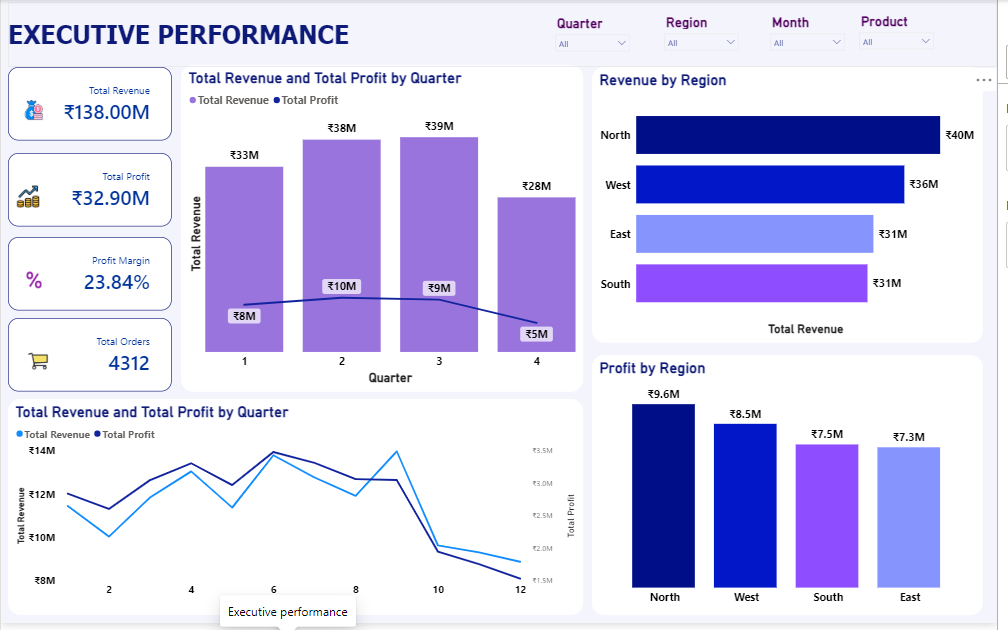

Layout of this report page (visuals, bound fields, positions):
{"tool":"powerbi","page":{"name":"Executive performance","canvas":[1600,1000],"ordinal":1},"visuals":[{"type":"shape","box":[11.2,3.2,1588.8,104.4],"z":0,"group":"g7"},{"type":"group","id":"g1","title":"Group 1","box":[11.2,107.6,263.5,118.9],"z":0},{"type":"cardVisual","fields":{"Data":["ecommerce_cleaned.Total Revenue"]},"box":[11.2,107.6,263.5,118.2],"z":0,"group":"g1"},{"type":"cardVisual","fields":{"Data":["ecommerce_cleaned.Total Profit"]},"box":[11.2,245.2,263.5,118.2],"z":0,"group":"g3"},{"type":"cardVisual","fields":{"Data":["ecommerce_cleaned.Profit Margin"]},"box":[11.2,380.7,263.5,118.2],"z":0,"group":"g2"},{"type":"cardVisual","fields":{"Data":["ecommerce_cleaned.Total Orders"]},"box":[11.2,510.8,263.5,118.2],"z":0,"group":"g6"},{"type":"image","box":[15.8,159.5,73.3,36.2],"z":501,"group":"g1"},{"type":"image","box":[15.8,432.6,73.3,36.2],"z":501,"group":"g2"},{"type":"slicer","fields":{"Values":["ecommerce_cleaned.quarter"]},"box":[879.9,18.9,139.8,73.9],"z":1000,"group":"g7"},{"type":"group","id":"g2","title":"Group 1","box":[11.2,380.7,263.5,118.9],"z":1000},{"type":"slicer","fields":{"Values":["ecommerce_cleaned.region"]},"box":[1055,17.3,139.8,73.9],"z":2000,"group":"g7"},{"type":"group","id":"g3","title":"Group 1","box":[11.2,245.2,263.5,118.9],"z":2000,"group":"g5"},{"type":"group","id":"g4","title":"Group 2","box":[11.2,510.8,263.5,118.9],"z":2000},{"type":"slicer","fields":{"Values":["ecommerce_cleaned.month"]},"box":[1225.3,17.3,139.8,73.9],"z":3000,"group":"g7"},{"type":"group","id":"g5","title":"Group 3","box":[11.2,245.2,263.5,118.9],"z":3000},{"type":"slicer","fields":{"Values":["ecommerce_cleaned.product_name"]},"box":[1368.2,15.7,139.8,73.9],"z":4000,"group":"g7"},{"type":"lineClusteredColumnComboChart","title":"Total Revenue and Total Profit by Quarter","fields":{"Category":["ecommerce_cleaned.quarter"],"Y":["ecommerce_cleaned.Total Revenue"],"Y2":["ecommerce_cleaned.Total Profit"]},"box":[289.2,104.4,645.8,525.3],"z":4000},{"type":"group","id":"g6","title":"Group 1","box":[11.2,510.8,263.5,118.2],"z":4000,"group":"g4"},{"type":"image","box":[22.8,562.2,73.3,36],"z":4500,"group":"g4"},{"type":"clusteredBarChart","title":"Revenue by Region","fields":{"Category":["ecommerce_cleaned.region"],"Y":["ecommerce_cleaned.Total Revenue"]},"box":[949.4,107.6,628.1,443.4],"z":5000},{"type":"image","box":[16.4,297.2,54.6,36.9],"z":5000,"group":"g5"},{"type":"clusteredColumnChart","title":"Profit by Region","fields":{"Category":["ecommerce_cleaned.region"],"Y":["ecommerce_cleaned.Total Profit"]},"box":[949.4,570.3,628.1,417.7],"z":6000},{"type":"lineChart","title":"Total Revenue and Total Profit by Quarter","fields":{"Category":["ecommerce_cleaned.month"],"Y":["ecommerce_cleaned.Total Revenue"],"Y2":["ecommerce_cleaned.Total Profit"]},"box":[11.2,641,923.7,347],"z":7000},{"type":"group","id":"g7","title":"Group 4","box":[11.2,3.2,1588.8,104.4],"z":7006},{"type":"actionButton","box":[1553.4,0,46.6,40.2],"z":7007}]}

Visuals, with their boxes in screenshot pixels (x1, y1, x2, y2), scaled from the page's 1600x1000 canvas onto the 1008x630 screenshot:
shape: detection(7, 2, 1007, 68)
"Group 1" group: detection(7, 68, 173, 143)
cardVisual - ecommerce_cleaned.Total Revenue: detection(7, 68, 173, 142)
cardVisual - ecommerce_cleaned.Total Profit: detection(7, 154, 173, 229)
cardVisual - ecommerce_cleaned.Profit Margin: detection(7, 240, 173, 314)
cardVisual - ecommerce_cleaned.Total Orders: detection(7, 322, 173, 396)
image: detection(10, 100, 56, 123)
image: detection(10, 273, 56, 295)
slicer - ecommerce_cleaned.quarter: detection(554, 12, 642, 58)
"Group 1" group: detection(7, 240, 173, 315)
slicer - ecommerce_cleaned.region: detection(665, 11, 753, 57)
"Group 1" group: detection(7, 154, 173, 229)
"Group 2" group: detection(7, 322, 173, 397)
slicer - ecommerce_cleaned.month: detection(772, 11, 860, 57)
"Group 3" group: detection(7, 154, 173, 229)
slicer - ecommerce_cleaned.product_name: detection(862, 10, 950, 56)
"Total Revenue and Total Profit by Quarter" lineClusteredColumnComboChart: detection(182, 66, 589, 397)
"Group 1" group: detection(7, 322, 173, 396)
image: detection(14, 354, 61, 377)
"Revenue by Region" clusteredBarChart: detection(598, 68, 994, 347)
image: detection(10, 187, 45, 210)
"Profit by Region" clusteredColumnChart: detection(598, 359, 994, 622)
"Total Revenue and Total Profit by Quarter" lineChart: detection(7, 404, 589, 622)
"Group 4" group: detection(7, 2, 1007, 68)
actionButton: detection(979, 0, 1007, 25)
